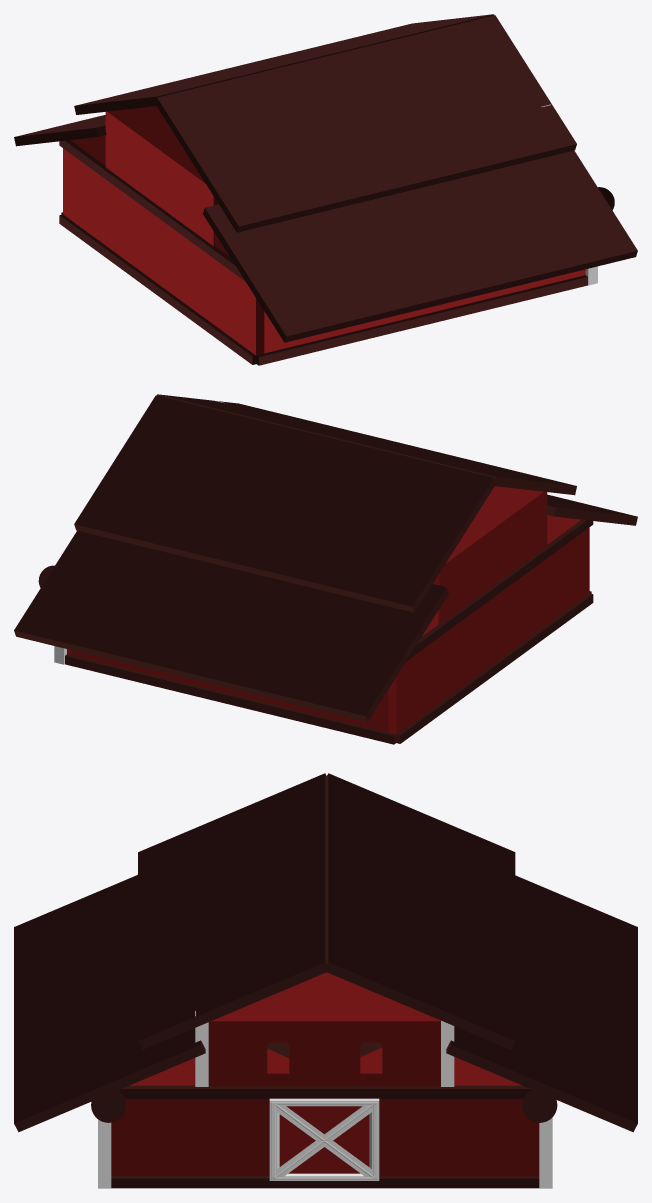
File: barn_full.FBX
The picture shows the model from 3 angles, top to bottom: view 1: azimuth 30°, elevation 25°; view 2: azimuth 150°, elevation 25°; view 3: azimuth 270°, elevation 25°; orthographic projection. The views are drawn at different scales.
Visible parts, largest first — view 1: Box004; view 2: Box004; view 3: Box004.
Boxes of the visible parts, x1,y1,x2,y2 form: Box004: (14, 14, 637, 365); Box004: (14, 394, 637, 744); Box004: (14, 773, 637, 1188).
Bounding box in the file's own units: 903 × 461 × 1160.
